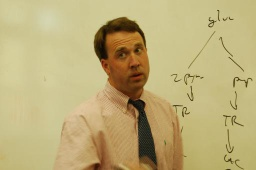male: (95, 25, 158, 93)
